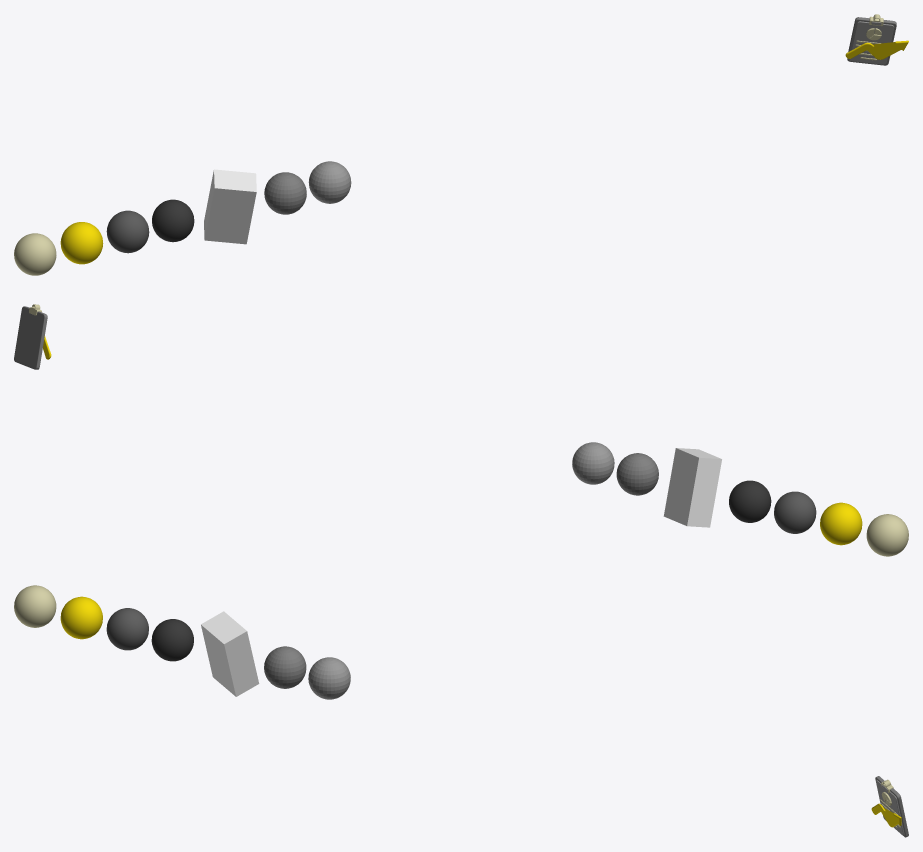
Rendered from profitAmarillo.fbx.
The picture shows the model from 3 angles, top to bottom: view 1: azimuth 30°, elevation 25°; view 2: azimuth 150°, elevation 25°; view 3: azimuth 330°, elevation 25°; orthographic projection.
Parts seen in each view (by area): view 1: Materials, Abgle Ref, Sphere.002, Sphere, Plane.001, Cube.003; view 2: Materials, Abgle Ref, Plane, Sphere, Sphere.002; view 3: Materials, Abgle Ref, Sphere, Sphere.002.
Part boxes in pixels (<box>): Materials: <box>14,199,194,275</box>; Abgle Ref: <box>204,169,256,244</box>; Sphere.002: <box>264,172,306,214</box>; Sphere: <box>308,161,351,203</box>; Plane.001: <box>849,21,894,64</box>; Cube.003: <box>845,40,908,59</box>; Materials: <box>729,480,908,556</box>; Abgle Ref: <box>663,448,721,527</box>; Plane: <box>14,306,47,369</box>; Sphere: <box>572,442,614,484</box>; Sphere.002: <box>616,453,658,495</box>; Materials: <box>14,585,193,661</box>; Abgle Ref: <box>201,611,259,696</box>; Sphere: <box>308,657,350,699</box>; Sphere.002: <box>264,646,306,688</box>.
Size of the model in its own units: 4818 by 379 by 341.
